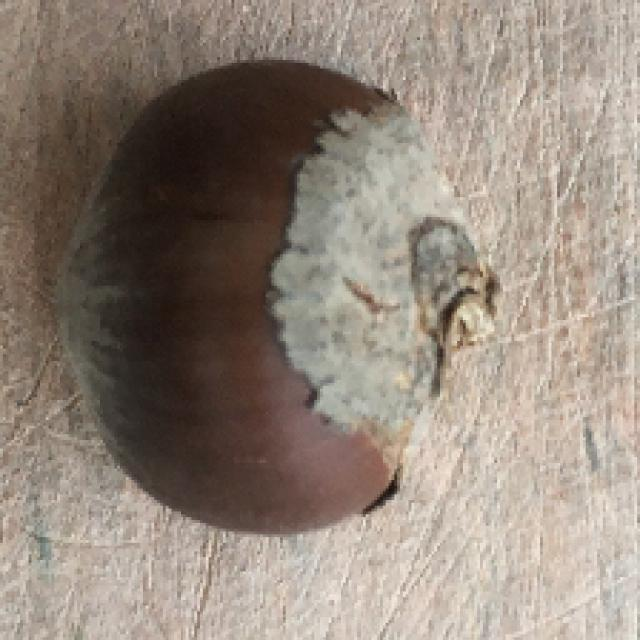damagedHazelnut: (73, 48, 493, 533)
